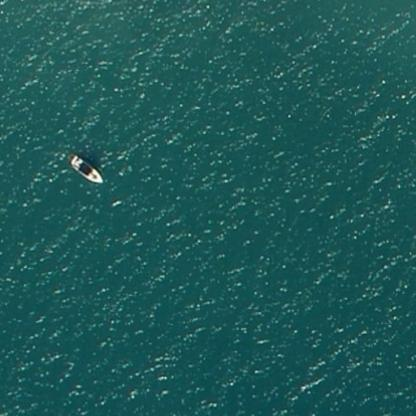ship: (63, 149, 110, 190)
